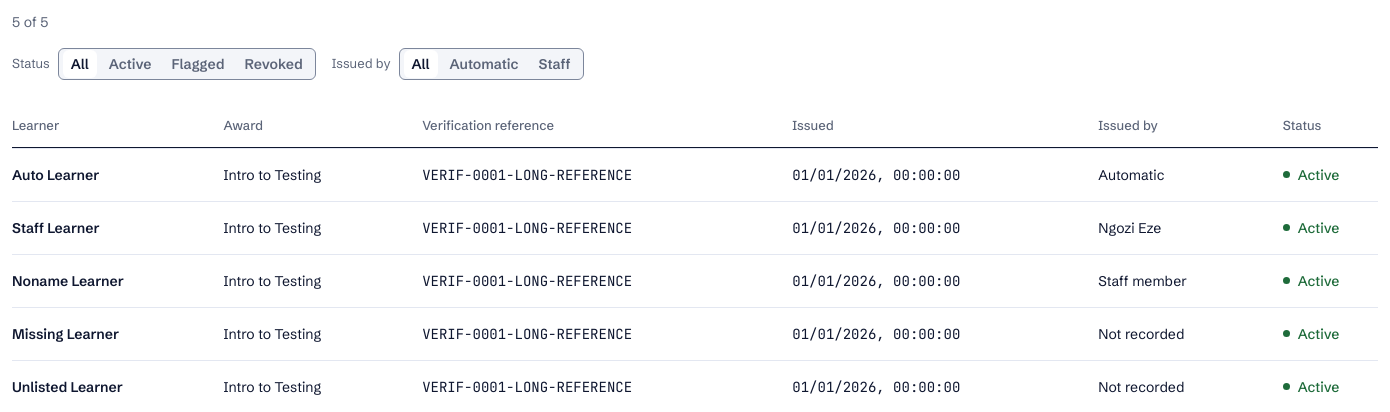
Test case: IssuedCertificatesTable — issuance source (UAT test 8) › clearing filters resets both selects
Click the button "Automatic".
click(484, 64)  # box [442,50,526,78]
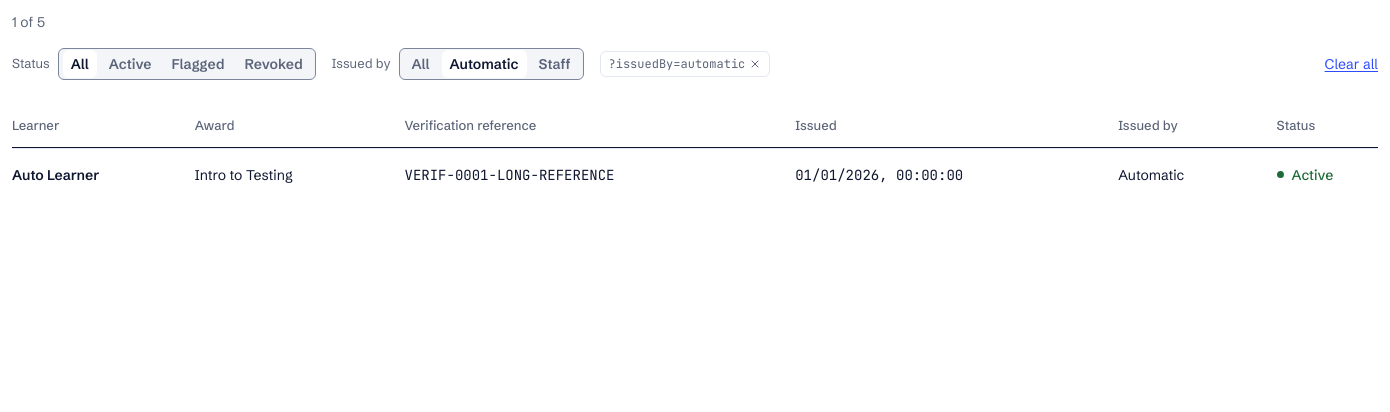
Click the button "Flagged".
click(198, 64)  # box [164,50,232,78]
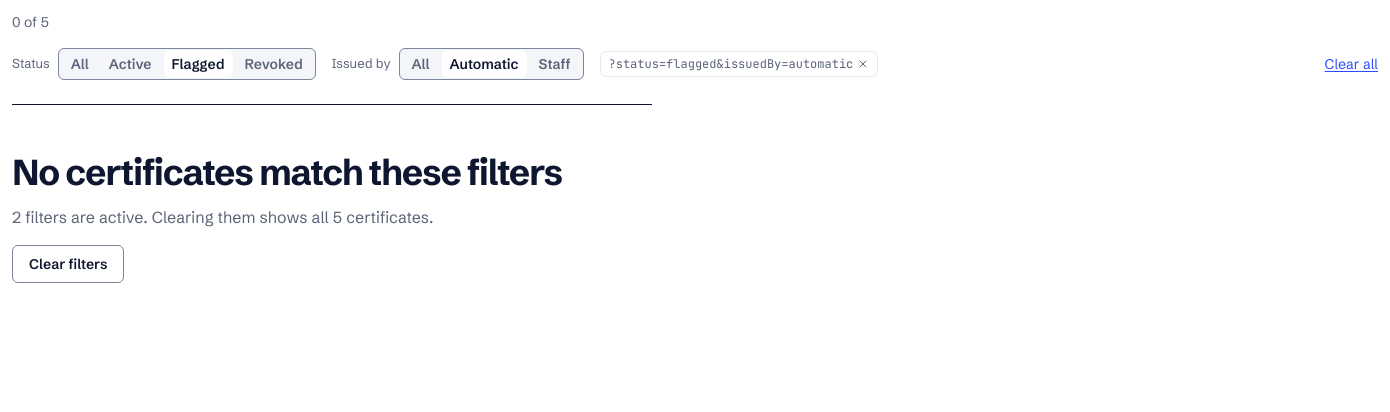
Click the button named "clear".
click(863, 64)  # box [857,58,869,70]
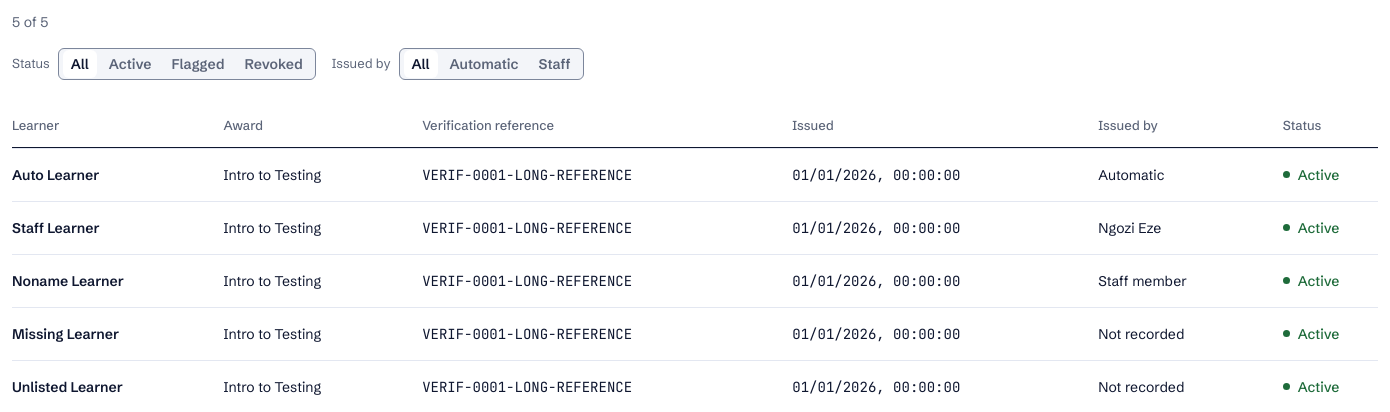
Result: the link "Staff Learner" is shown at [12,218,100,238]
